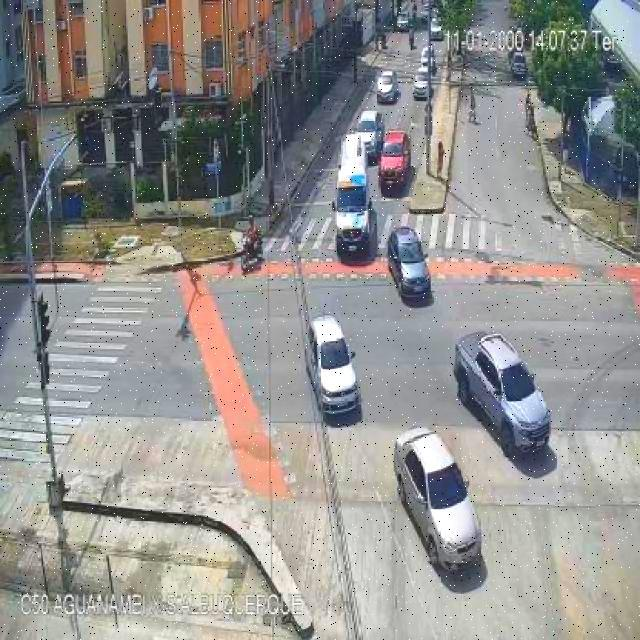Car: (393, 427, 481, 572), (454, 332, 550, 455), (299, 310, 364, 422), (387, 226, 432, 301), (378, 130, 411, 192), (356, 112, 384, 164), (376, 71, 398, 103), (412, 74, 433, 100), (419, 45, 436, 74), (510, 52, 527, 80), (429, 14, 443, 40)
Cycle: (234, 210, 266, 270), (523, 89, 545, 140)
Van: (322, 151, 373, 265)
